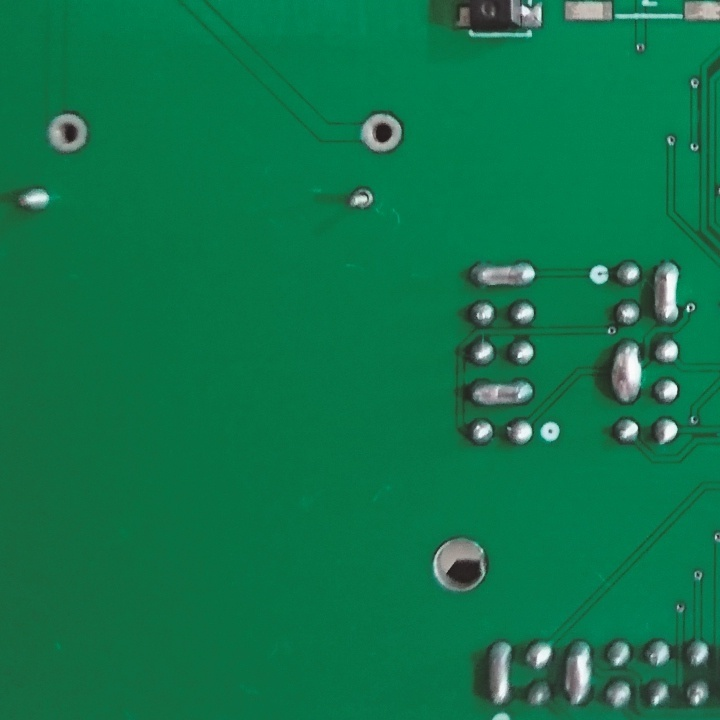F: (358, 110, 406, 157), (44, 112, 92, 154), (346, 186, 373, 212)
P: (466, 258, 539, 292), (464, 375, 536, 409), (608, 339, 644, 406), (485, 635, 514, 709), (562, 637, 590, 710), (652, 260, 681, 326)
